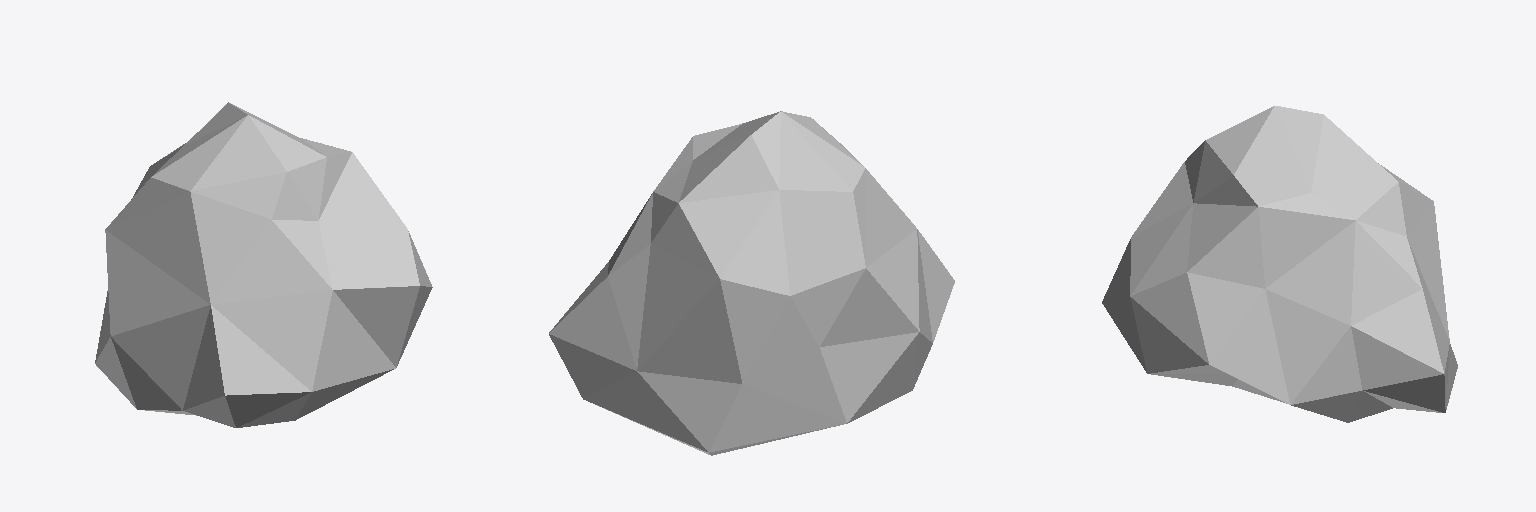
The model's file is rock3.obj.
3 renders of one model, left to right at view 1: azimuth 30°, elevation 25°; view 2: azimuth 150°, elevation 25°; view 3: azimuth 270°, elevation 25°, orthographic.
Visible parts, largest first — view 1: low_poly_rock_3; view 2: low_poly_rock_3; view 3: low_poly_rock_3.
Boxes of the visible parts, box(x1,y1,x2,y2) form: low_poly_rock_3: box(95, 102, 432, 427); low_poly_rock_3: box(549, 111, 954, 455); low_poly_rock_3: box(1102, 106, 1457, 422).
Bounding box in the file's own units: 2.01 × 1.88 × 2.09.